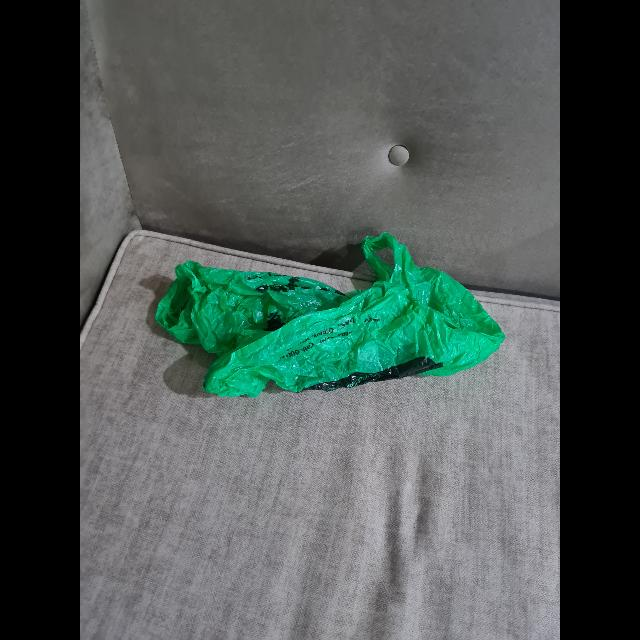plastic_bag: (143, 240, 522, 406)
